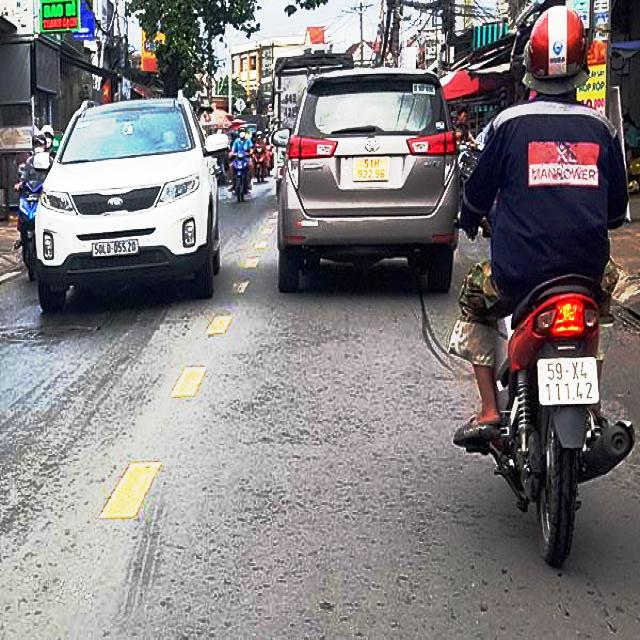license_plate: (539, 358, 600, 408), (354, 156, 391, 182)
